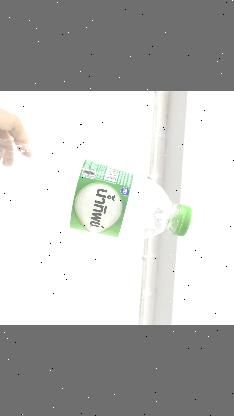Plastic Bottle: (0, 122, 193, 250)
